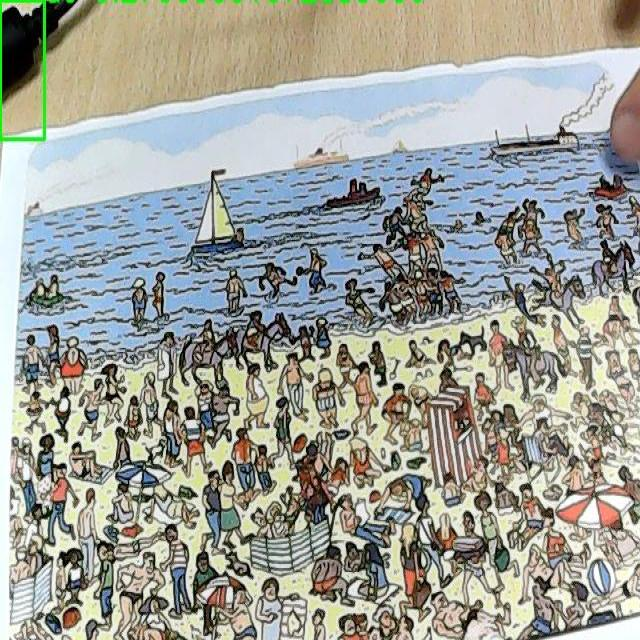waldo: (302, 453, 322, 483)
